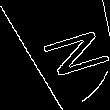N_SW: (12, 27, 98, 83)
